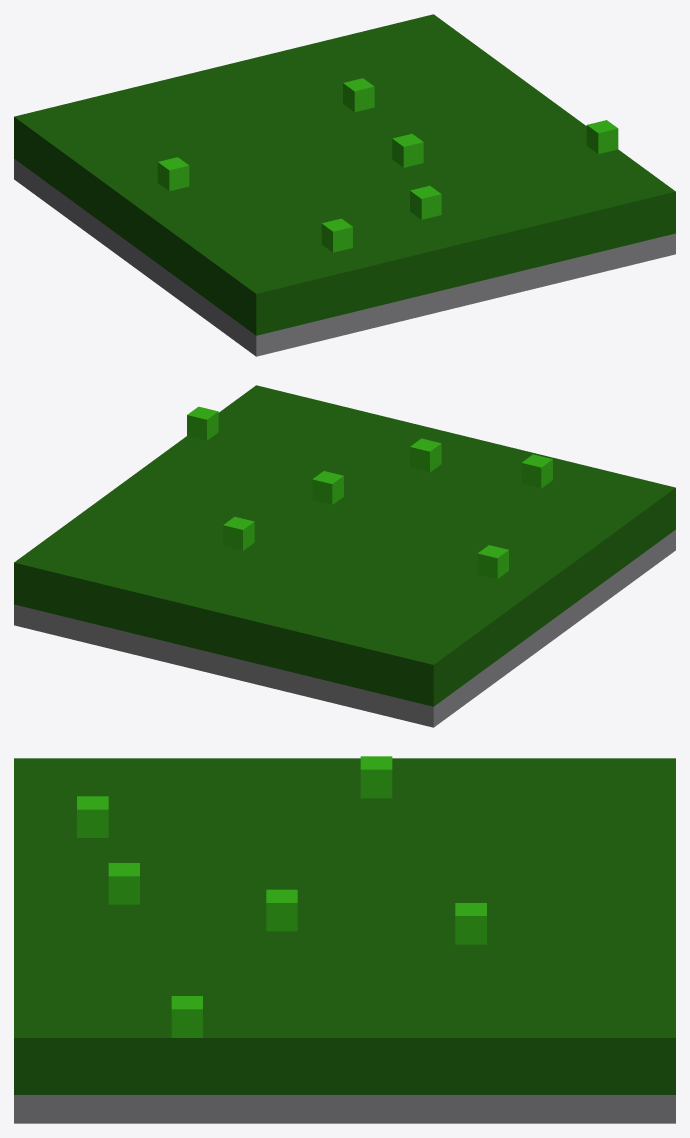
The model's file is grass0.obj.
The picture shows the model from 3 angles, top to bottom: view 1: azimuth 30°, elevation 25°; view 2: azimuth 150°, elevation 25°; view 3: azimuth 270°, elevation 25°; orthographic projection. The views are drawn at different scales.
Bounding box in the file's own units: 21 × 4 × 21.
1 material, 1 textured.
